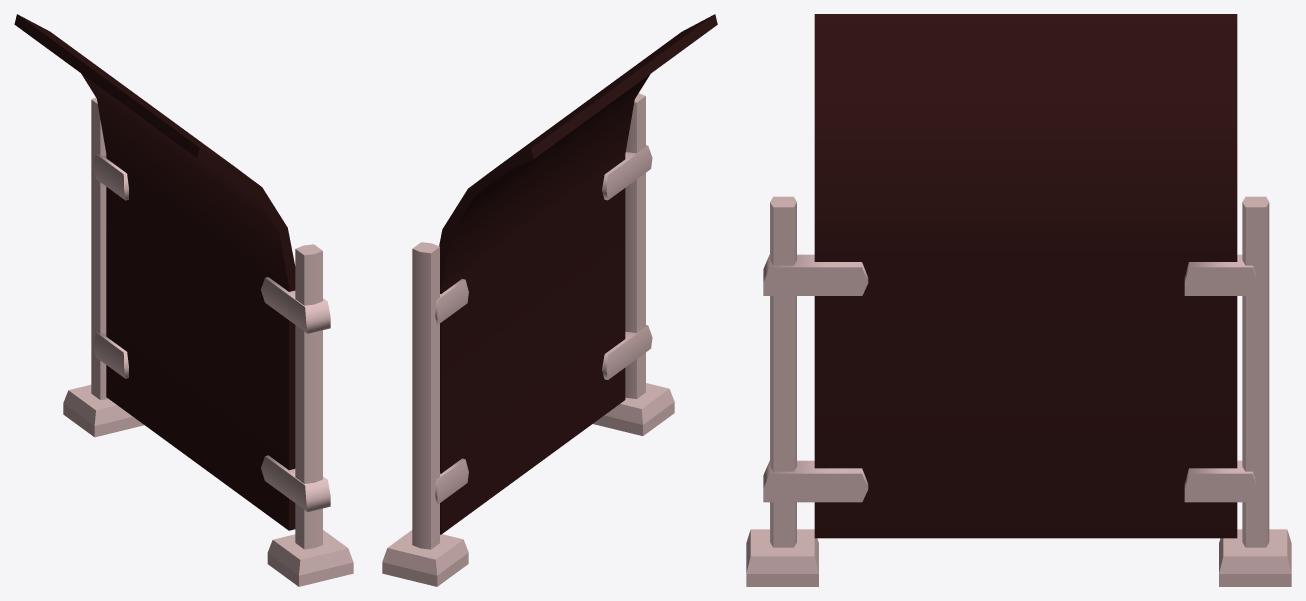
File: Module_Ss_asset_bar1.FBX
3 views of the same model, side by side, from view 1: azimuth 30°, elevation 25°; view 2: azimuth 150°, elevation 25°; view 3: azimuth 270°, elevation 25° (orthographic). The views are drawn at different scales.
Parts seen in each view (by area): view 1: Module_Ss_asset_bar1; view 2: Module_Ss_asset_bar1; view 3: Module_Ss_asset_bar1.
Part boxes in pixels (box(x1,y1,x2,y2)): Module_Ss_asset_bar1: box(14, 14, 353, 586); Module_Ss_asset_bar1: box(382, 14, 717, 586); Module_Ss_asset_bar1: box(746, 14, 1291, 586).
Size of the model in its own units: 6.39 by 20.93 by 20.57.
